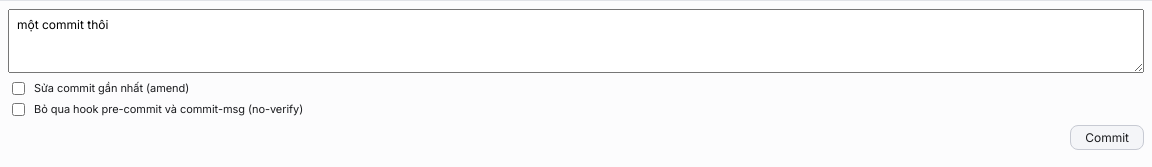
Test: 🔴 bấm đôi chỉ gửi một commit (M13) › nút VÔ HIỆU trong lúc đang commit
The image size is (1152, 167).
Click the button with test id "commit-button" at (1107, 138), box [1070,125,1144,150]
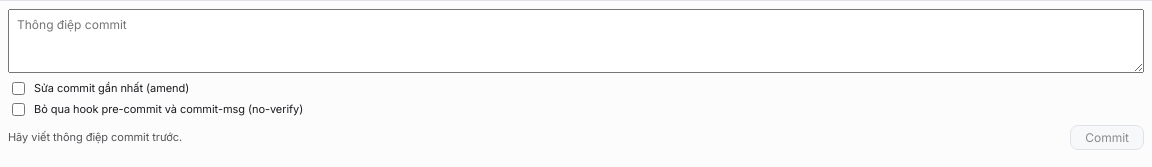
Now the button with test id "commit-button" is disabled, box [1070,125,1144,150]
